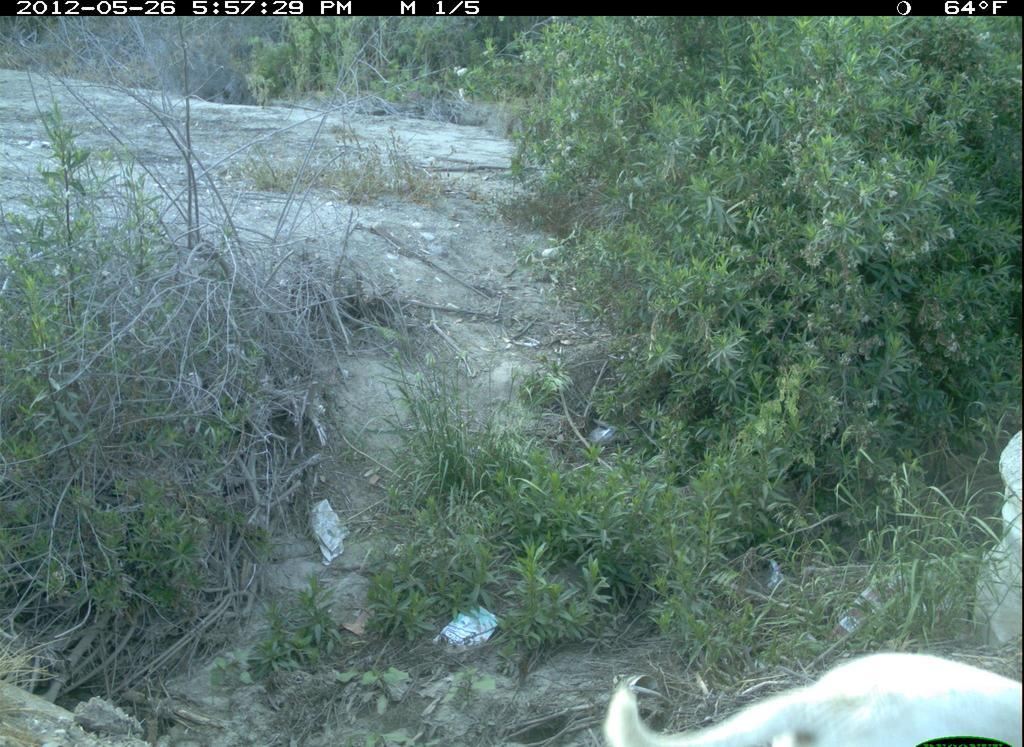dog: (588, 638, 1018, 744)
